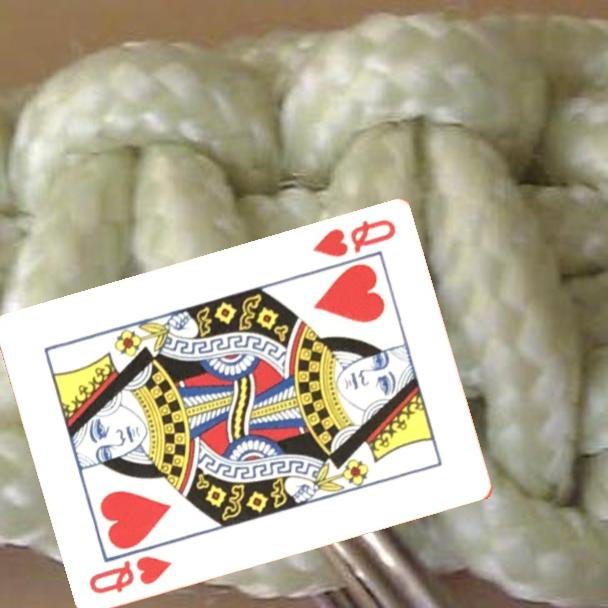h12: (85, 553, 175, 598), (309, 216, 399, 261)
